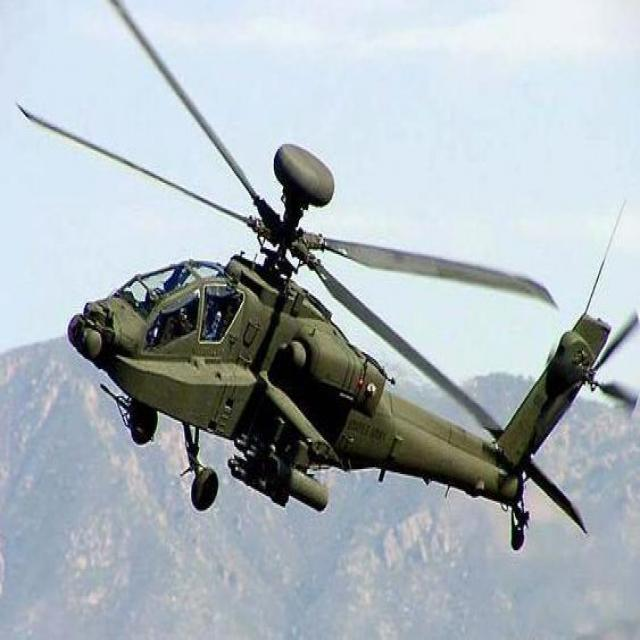MIL_HELO: (14, 0, 640, 552)
